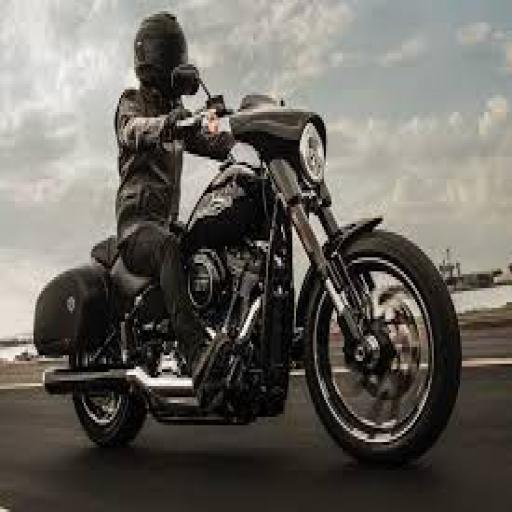helmet: (32, 64, 462, 468), (112, 8, 240, 400), (130, 8, 188, 90)
